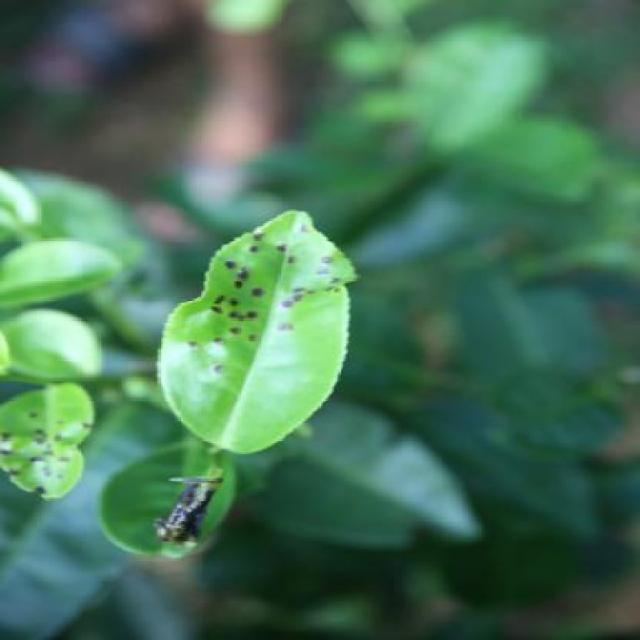Tea Mosquito bug infested leaf: (154, 200, 361, 475)
